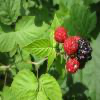Raspberry leaf: (18, 37, 52, 57)
